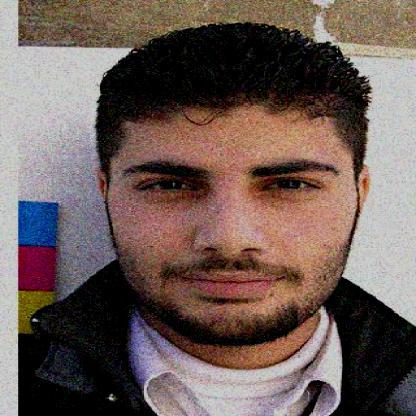without_mask: (112, 136, 350, 329)
